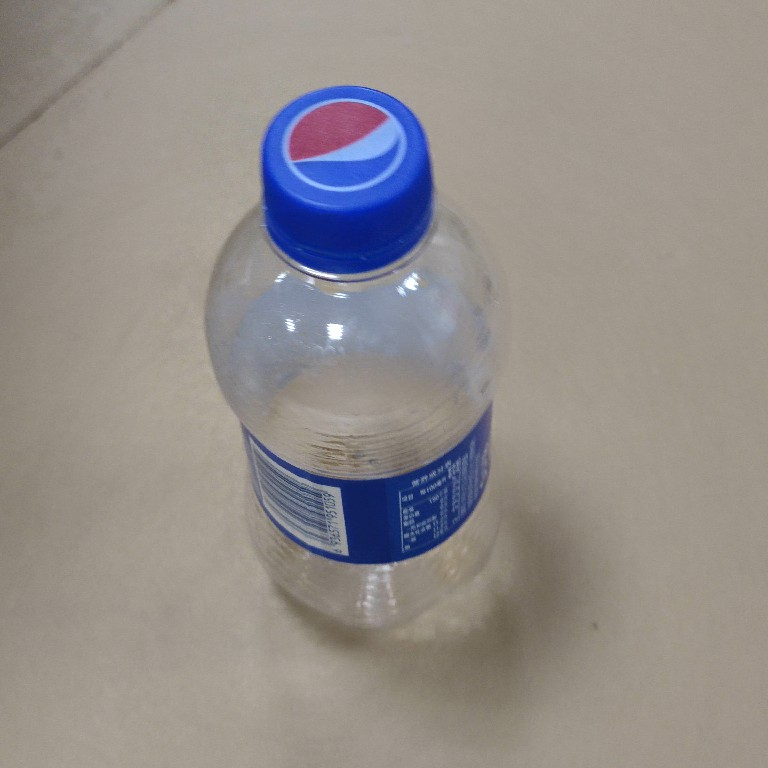bottle: (197, 82, 518, 642)
